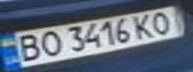1: (97, 18, 118, 46)
3: (63, 24, 84, 53)
4: (81, 20, 103, 50)
6: (112, 16, 136, 44)
B: (9, 32, 45, 63)
K: (130, 11, 160, 39)
O: (145, 9, 181, 35), (33, 28, 63, 57)
